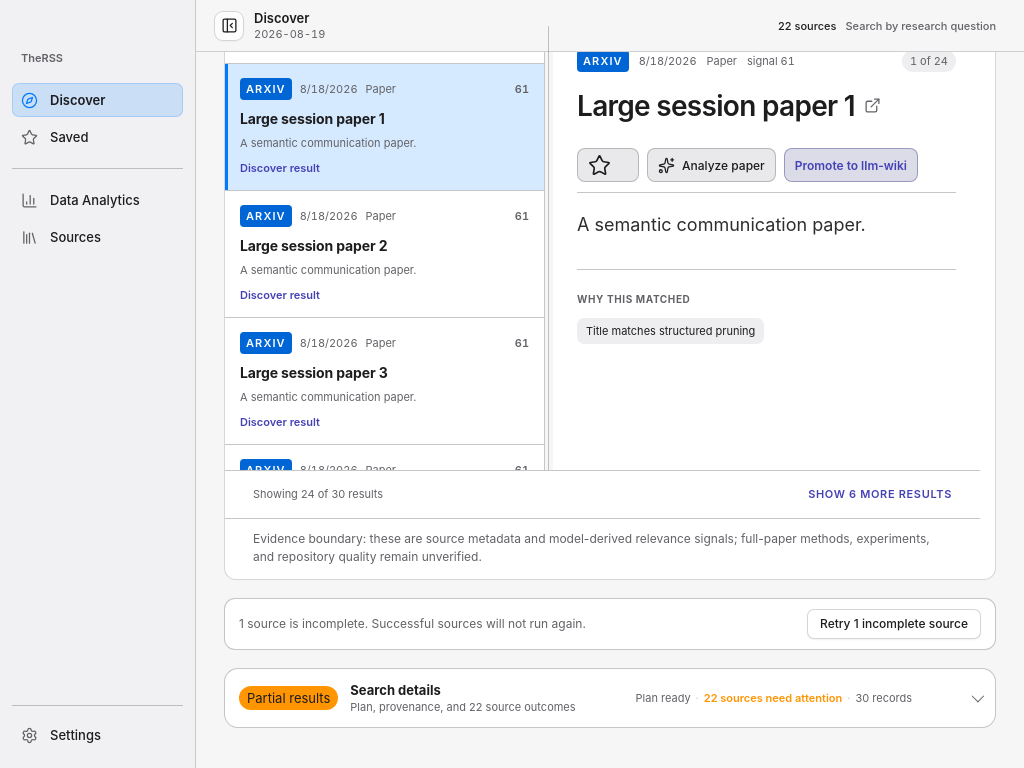
App › progressively reveals a large Discover session with correct heading levels
The width and height of the screenshot is (1024, 768).
(page scrolled)
Expected: the message named "Discover result count" reads "Showing 24 of 30 results", [253,488,383,502]
Expected: the number of headings is 1, [577,89,881,123]
Step 1. Click the button "Show 6 more results" → (880, 494), box [808,488,952,502]
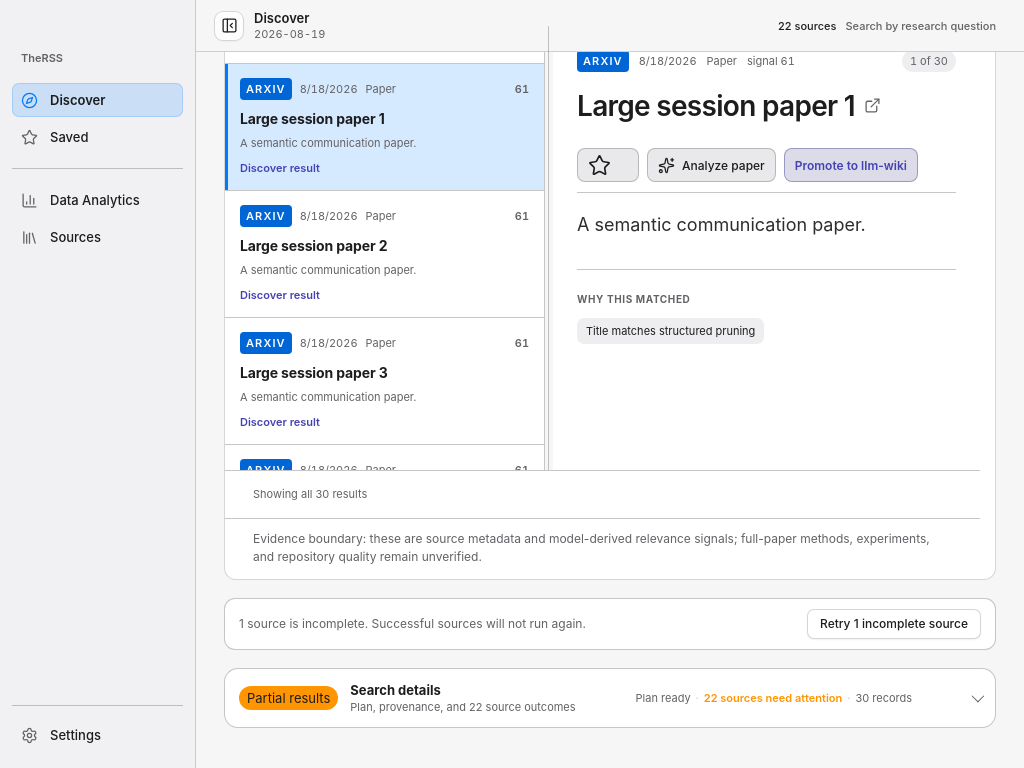
Expected: the message named "Discover result count" reads "Showing all 30 results", [253,488,367,502]
